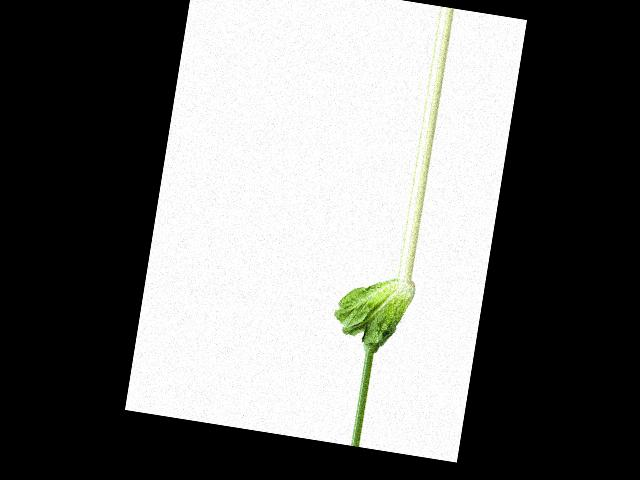lettuce: (328, 270, 417, 356)
